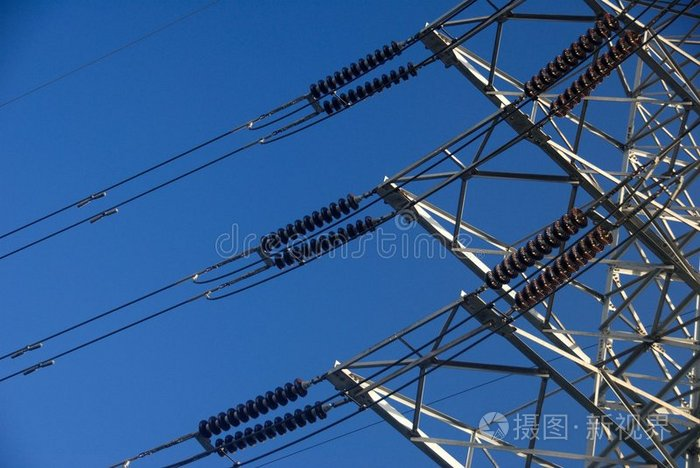insulator: (485, 209, 610, 303), (526, 15, 638, 117), (198, 376, 323, 455), (264, 196, 375, 269), (310, 40, 416, 114)
